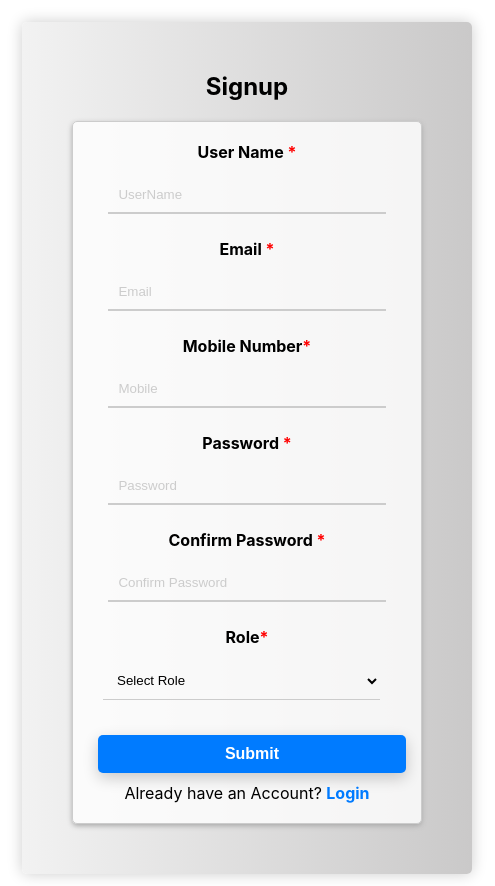
Signup Component › frontend_signup_component_displays_validation_messages_when_submit_button_is_clicked_with_empty_fields
Click the button "Submit" at (252, 754), box [98,735,406,773]
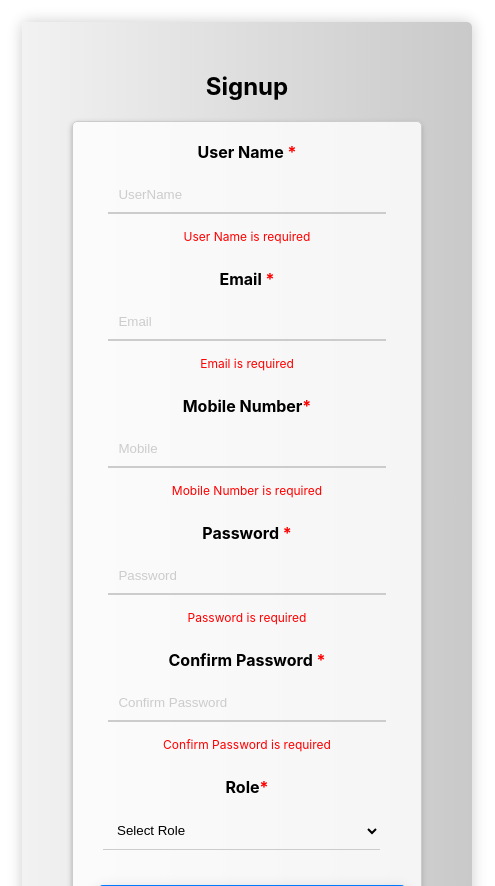
Expected: the text "User Name is required" is shown, [184,229,310,244]
Expected: the text "Email is required" is shown, [200,356,294,371]
Expected: the text "Mobile Number is required" is shown, [172,483,322,498]
